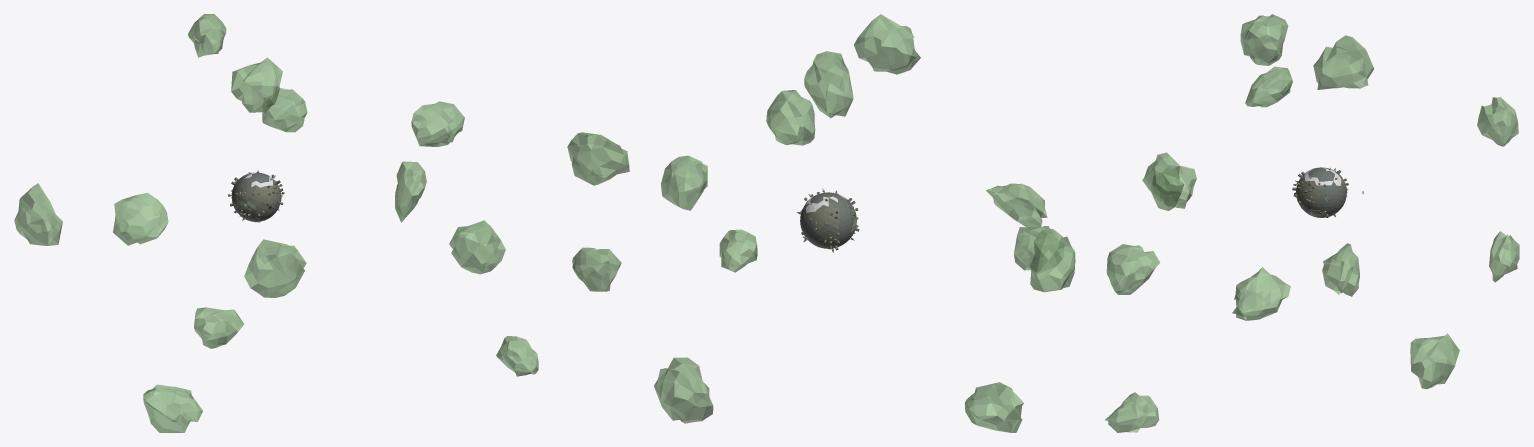
3 renders of one model, left to right at view 1: azimuth 30°, elevation 25°; view 2: azimuth 150°, elevation 25°; view 3: azimuth 270°, elevation 25°, orthographic. The views are drawn at different scales.
Parts seen in each view (by area): view 1: Platonic_2, Platonic_4, Platonic_0, Platonic_8, Platonic_11, Platonic_9, Platonic_10, Platonic_3, Platonic_7, Platonic_5, Earth, Platonic_6 (+2 smaller); view 2: Platonic_2, Platonic_9, Platonic_5, Platonic_10, Platonic_11, Platonic_0, Platonic_8, Platonic_1, Platonic_4, Platonic_7, Water, Platonic_6 (+2 smaller); view 3: Platonic_11, Platonic_0, Platonic_2, Platonic_8, Platonic_9, Platonic_5, Platonic_6, Platonic_1, Platonic_10, Platonic_4, Platonic_7, Water (+2 smaller).
Boxes of the visible parts, x1=… form: Platonic_2: x1=244, y1=239, x2=306, y2=297; Platonic_4: x1=113, y1=193, x2=168, y2=245; Platonic_0: x1=143, y1=384, x2=202, y2=432; Platonic_8: x1=449, y1=220, x2=505, y2=274; Platonic_11: x1=14, y1=183, x2=62, y2=245; Platonic_9: x1=231, y1=57, x2=282, y2=112; Platonic_10: x1=411, y1=101, x2=464, y2=146; Platonic_3: x1=194, y1=307, x2=244, y2=348; Platonic_7: x1=262, y1=88, x2=307, y2=132; Platonic_5: x1=395, y1=161, x2=426, y2=222; Earth: x1=231, y1=172, x2=281, y2=222; Platonic_6: x1=496, y1=336, x2=538, y2=376; Platonic_2: x1=654, y1=357, x2=713, y2=423; Platonic_9: x1=854, y1=14, x2=920, y2=74; Platonic_5: x1=804, y1=51, x2=853, y2=118; Platonic_10: x1=567, y1=132, x2=629, y2=185; Platonic_11: x1=1030, y1=229, x2=1075, y2=292; Platonic_0: x1=964, y1=382, x2=1023, y2=432; Platonic_8: x1=766, y1=90, x2=815, y2=145; Platonic_1: x1=661, y1=155, x2=707, y2=210; Platonic_4: x1=986, y1=183, x2=1047, y2=229; Platonic_7: x1=572, y1=247, x2=621, y2=291; Water: x1=800, y1=192, x2=856, y2=248; Platonic_6: x1=719, y1=229, x2=757, y2=272; Platonic_11: x1=1313, y1=35, x2=1373, y2=89; Platonic_0: x1=1232, y1=267, x2=1290, y2=320; Platonic_2: x1=1410, y1=333, x2=1459, y2=389; Platonic_8: x1=1106, y1=244, x2=1160, y2=294; Platonic_9: x1=1240, y1=14, x2=1288, y2=65; Platonic_5: x1=1142, y1=152, x2=1184, y2=210; Platonic_6: x1=1105, y1=392, x2=1159, y2=432; Platonic_1: x1=1477, y1=97, x2=1518, y2=146; Platonic_10: x1=1322, y1=243, x2=1359, y2=296; Platonic_4: x1=1245, y1=66, x2=1292, y2=107; Platonic_7: x1=1489, y1=231, x2=1519, y2=282; Water: x1=1297, y1=167, x2=1346, y2=217.
Size of the model in its own units: 6240 by 4619 by 4944.
